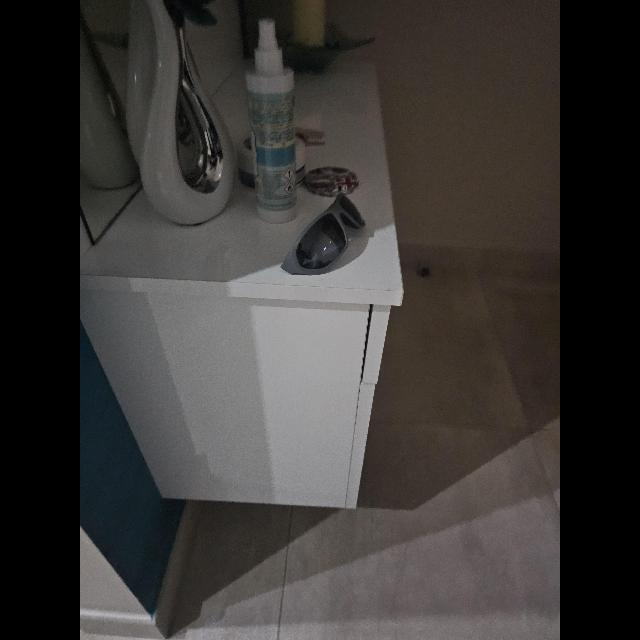Sunglasses: (281, 194, 365, 274)
